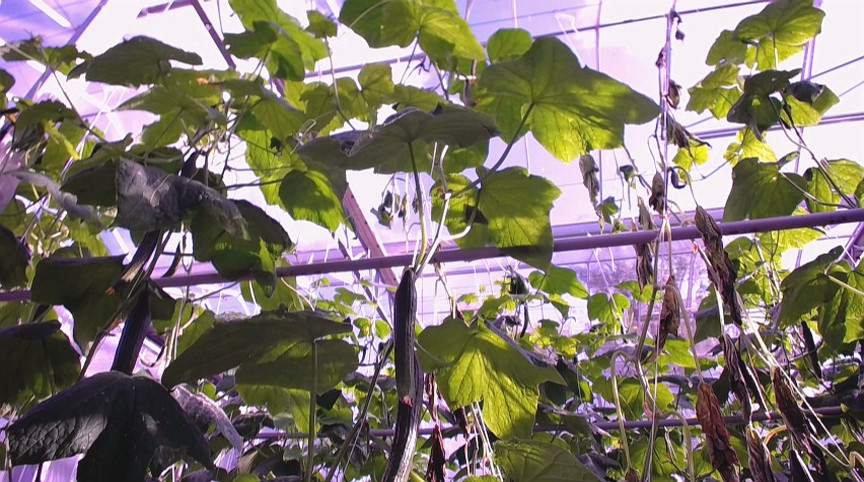cucumber: (111, 289, 157, 376), (394, 268, 417, 405), (382, 403, 422, 481)
